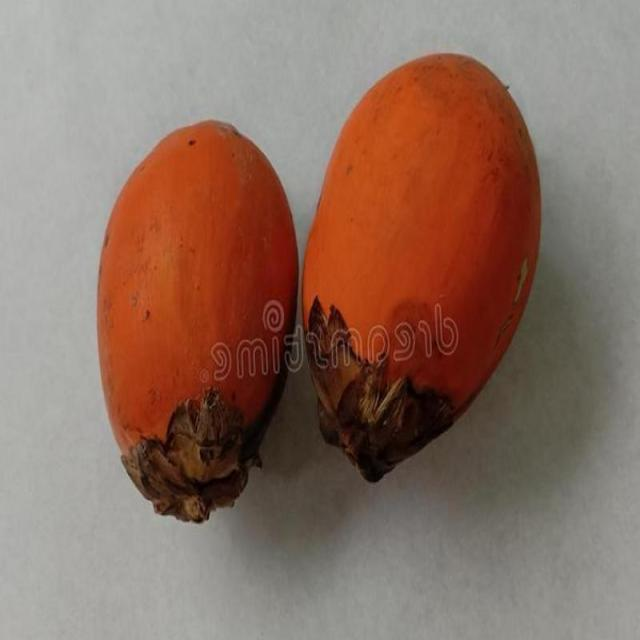good: (299, 53, 542, 485), (96, 120, 301, 527)
